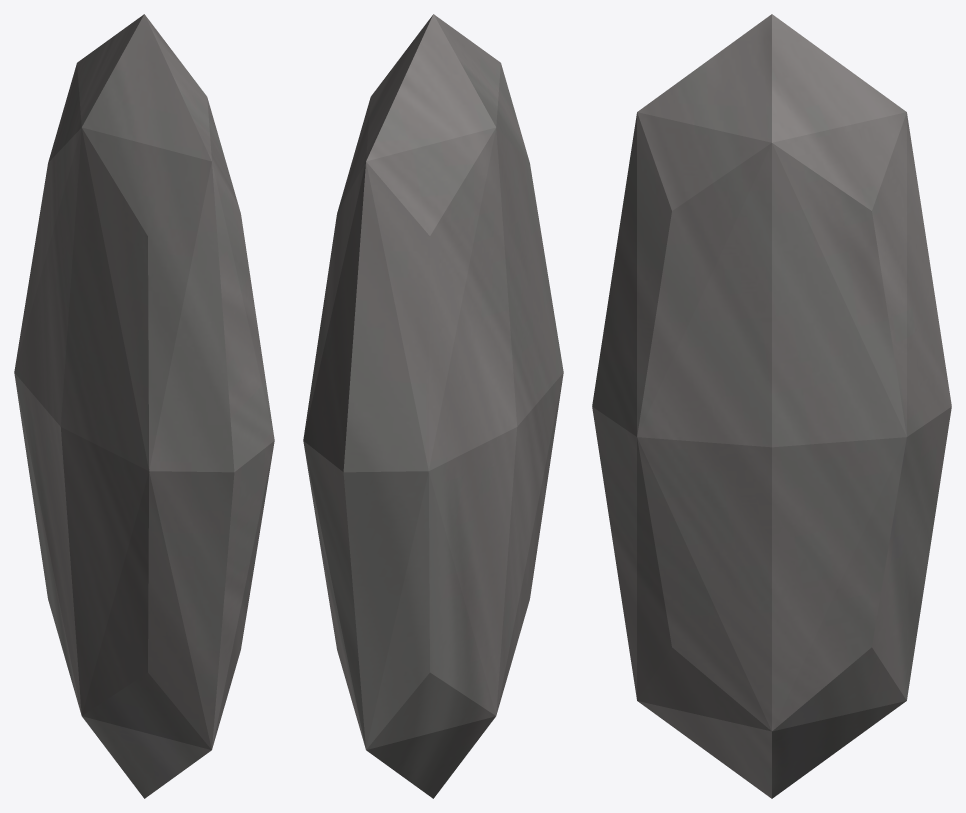
3 renders of one model, left to right at view 1: azimuth 30°, elevation 25°; view 2: azimuth 150°, elevation 25°; view 3: azimuth 270°, elevation 25°, orthographic.
Visible parts, largest first — view 1: I_0057D0_0.001; view 2: I_0057D0_0.001; view 3: I_0057D0_0.001.
Part boxes in pixels (left/top/right/bottom): I_0057D0_0.001: left=14, top=14, right=274, bottom=798; I_0057D0_0.001: left=303, top=14, right=563, bottom=798; I_0057D0_0.001: left=592, top=14, right=951, bottom=798.
Bounding box in the file's own units: 16.12 × 72.23 × 30.
1 material, 1 textured.
